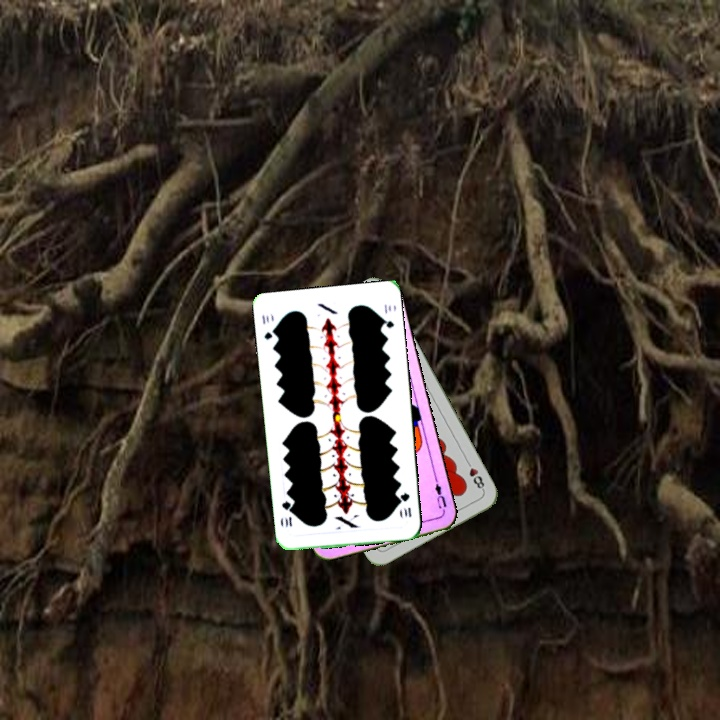EU: (429, 475, 449, 511)
G10: (258, 310, 279, 342), (396, 489, 414, 520)
H8: (462, 456, 487, 493)
